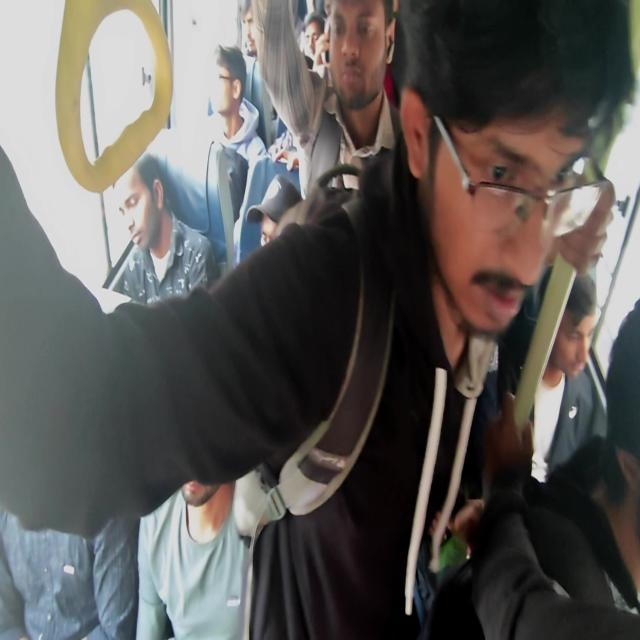person: (0, 319, 123, 634), (436, 54, 594, 299), (602, 356, 640, 618), (173, 405, 230, 534), (330, 0, 387, 108), (551, 260, 586, 411), (116, 164, 170, 253), (256, 198, 301, 284), (209, 44, 252, 127), (303, 27, 337, 81), (241, 0, 272, 59)
